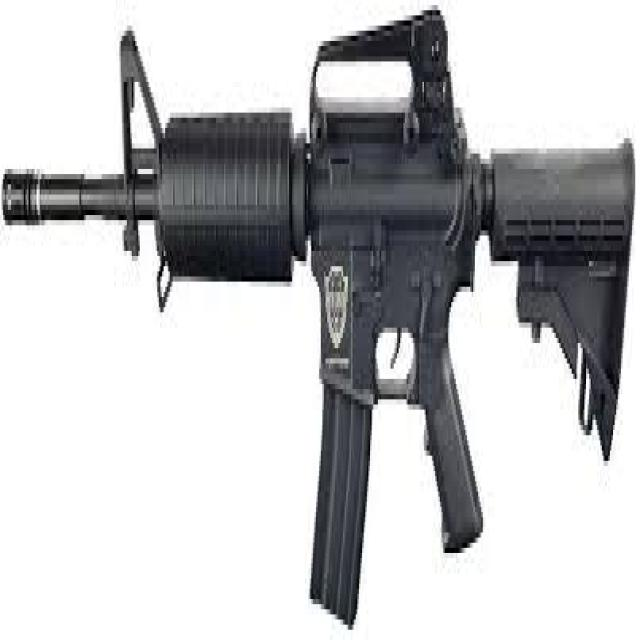rifle: (1, 21, 636, 636)
